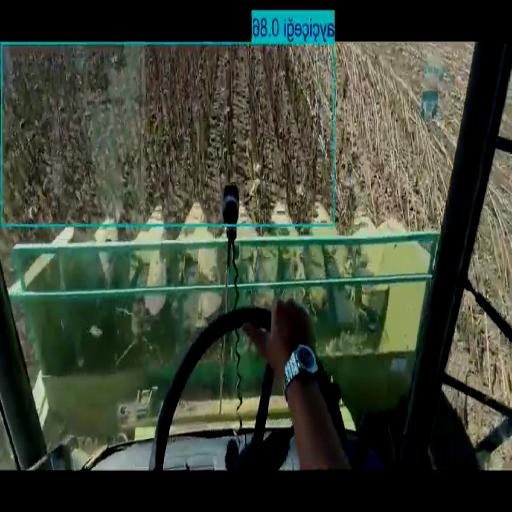ayc: (2, 45, 332, 223)
